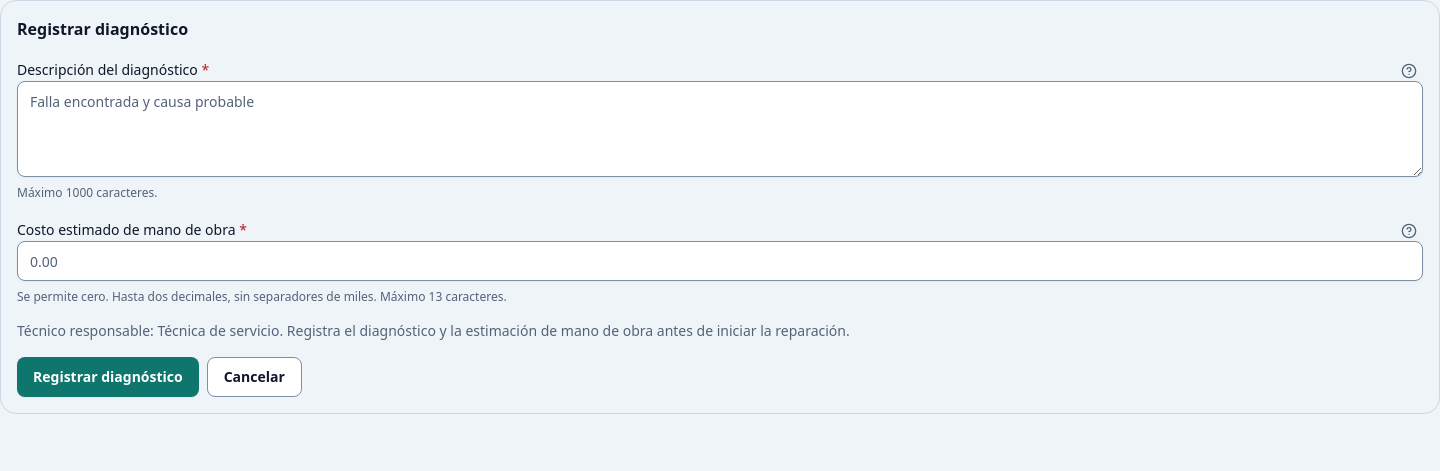
diagnósticos conectados › envía solo DiagnosisInput, normaliza dinero y toma actor de sesión sin selector de técnico
The image size is (1440, 471).
Type "  Falla de alimentación  " into the text box labelled "Descripción del diagnóstico *" at [720, 129], box [17, 81, 1423, 177]
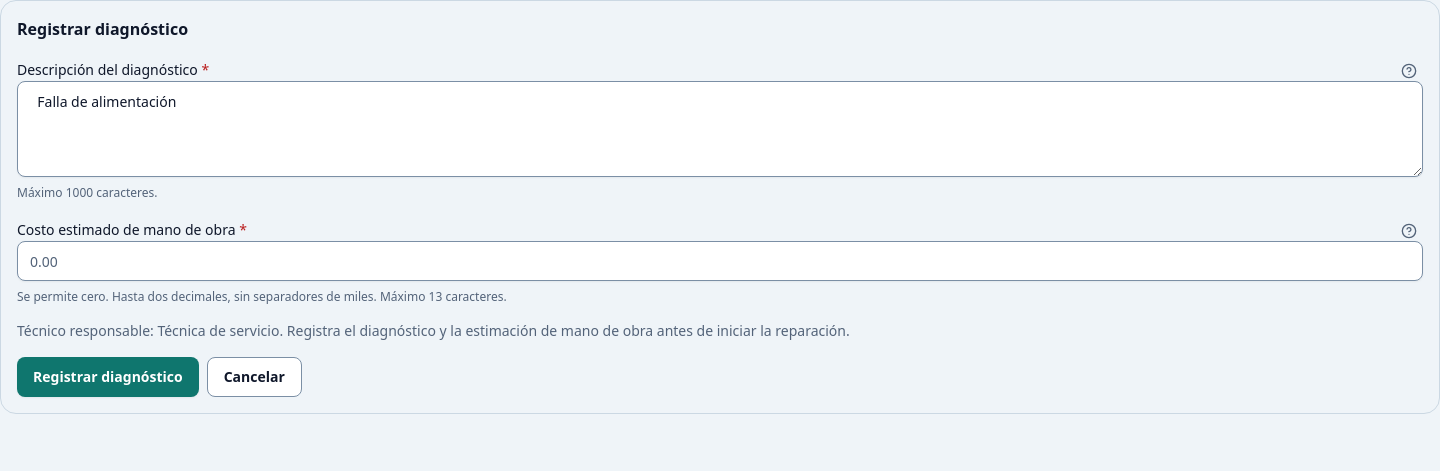
Type "0" into the field labelled "Costo estimado de mano de obra *" at [720, 261], box [17, 241, 1423, 281]
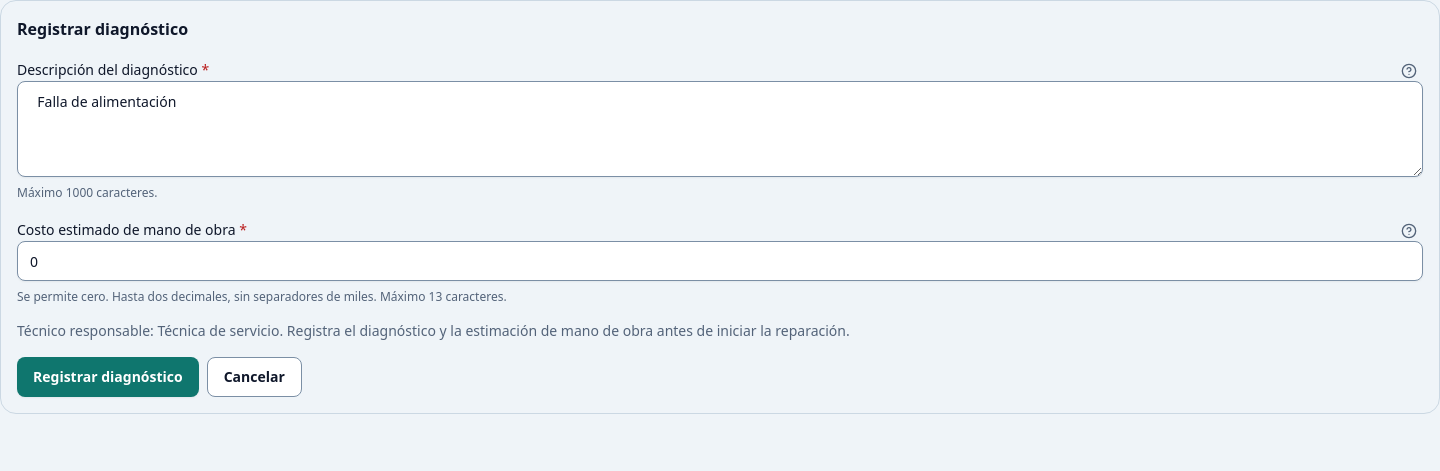
Submit the form "Registrar diagnóstico"
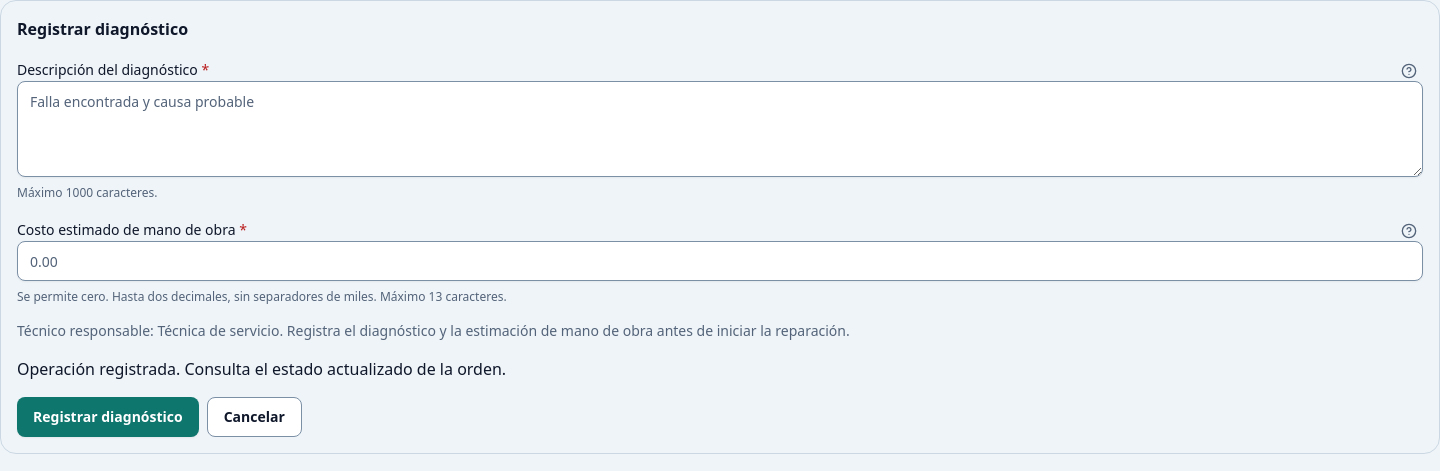
Now the text "Operación registrada. Consulta el estado actualizado de la orden." is shown, box [17, 358, 506, 380]
